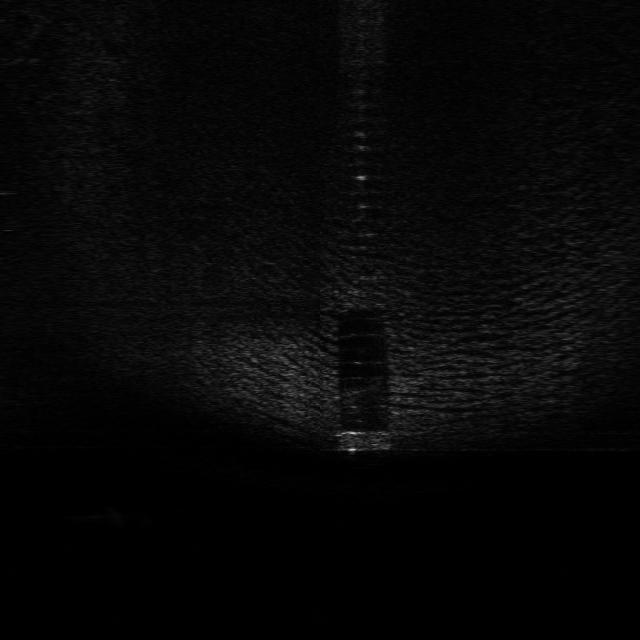cube: (333, 426, 393, 454)
